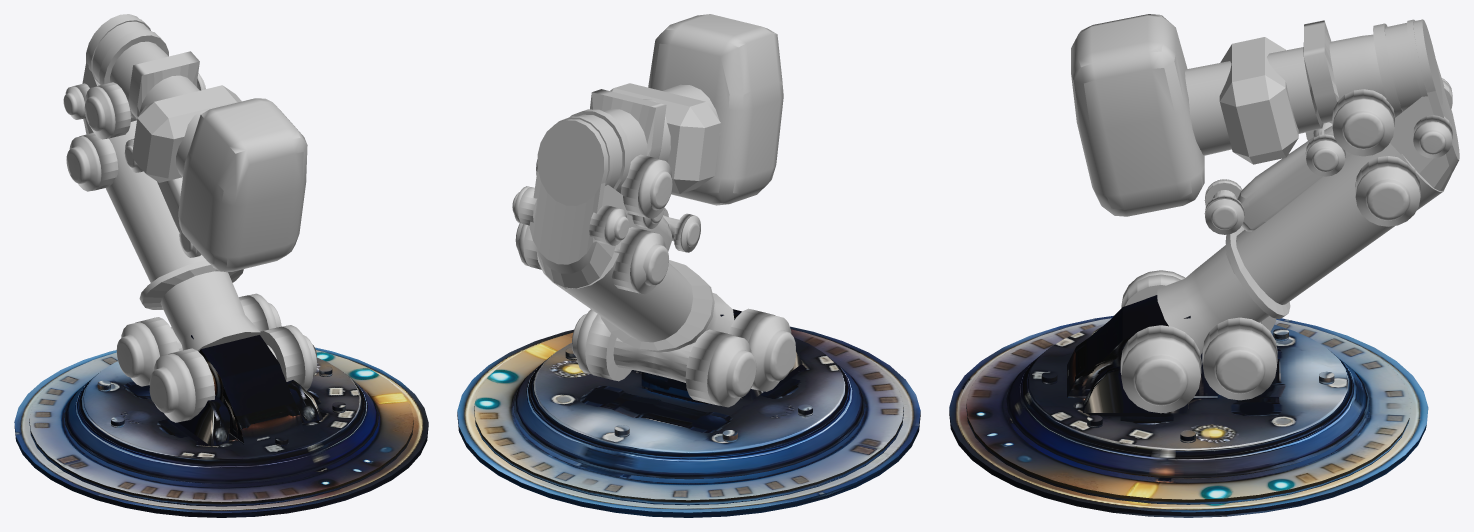
The model's file is Hammer.fbx.
The picture shows the model from 3 angles, left to right: view 1: azimuth 30°, elevation 25°; view 2: azimuth 150°, elevation 25°; view 3: azimuth 270°, elevation 25°; orthographic projection. The views are drawn at different scales.
Parts seen in each view (by area): view 1: pCube4, polySurface83; view 2: pCube4, polySurface83; view 3: pCube4, polySurface83.
Boxes of the visible parts, x1,y1,x2,y2 form: pCube4: [63, 14, 316, 422]; polySurface83: [14, 335, 428, 517]; pCube4: [512, 14, 795, 407]; polySurface83: [457, 309, 920, 517]; pCube4: [1071, 14, 1459, 413]; polySurface83: [949, 295, 1428, 517].
Size of the model in its own units: 93.34 by 85.1 by 99.79.
